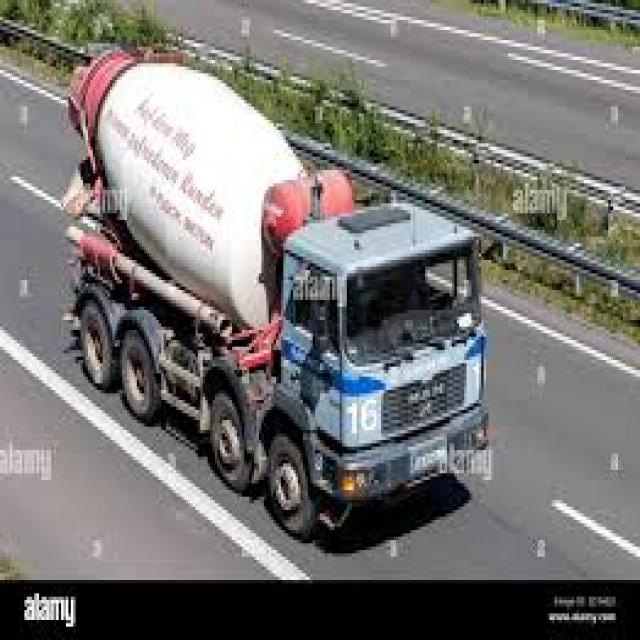Mixer Truck: (60, 41, 491, 544)
